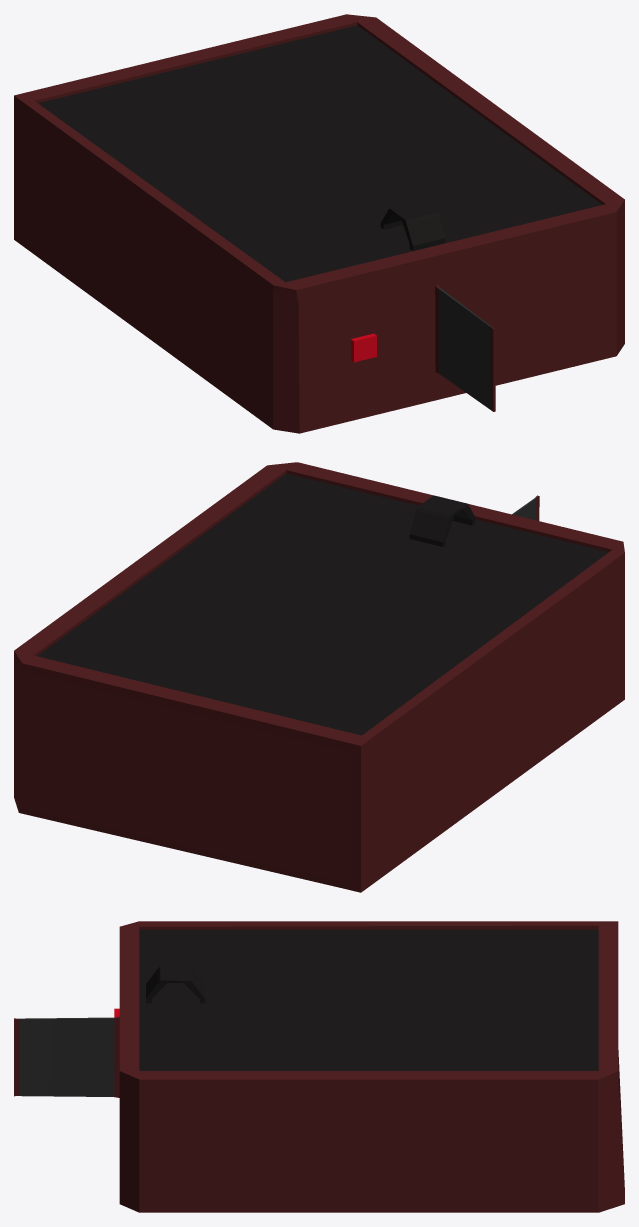
3 views of the same model, one above another, from view 1: azimuth 30°, elevation 25°; view 2: azimuth 150°, elevation 25°; view 3: azimuth 270°, elevation 25° (orthographic). The views are drawn at different scales.
Visible parts, largest first — view 1: pCube1, pCube2; view 2: pCube1, pCube2; view 3: pCube1, pCube2.
Boxes of the visible parts, bbox=[...] form: pCube1: bbox=[14, 14, 624, 433]; pCube2: bbox=[38, 25, 601, 282]; pCube1: bbox=[14, 462, 624, 892]; pCube2: bbox=[37, 473, 608, 735]; pCube1: bbox=[14, 921, 624, 1212]; pCube2: bbox=[139, 929, 598, 1070].
Size of the model in its own units: 1.42 by 0.6418 by 2.32.
